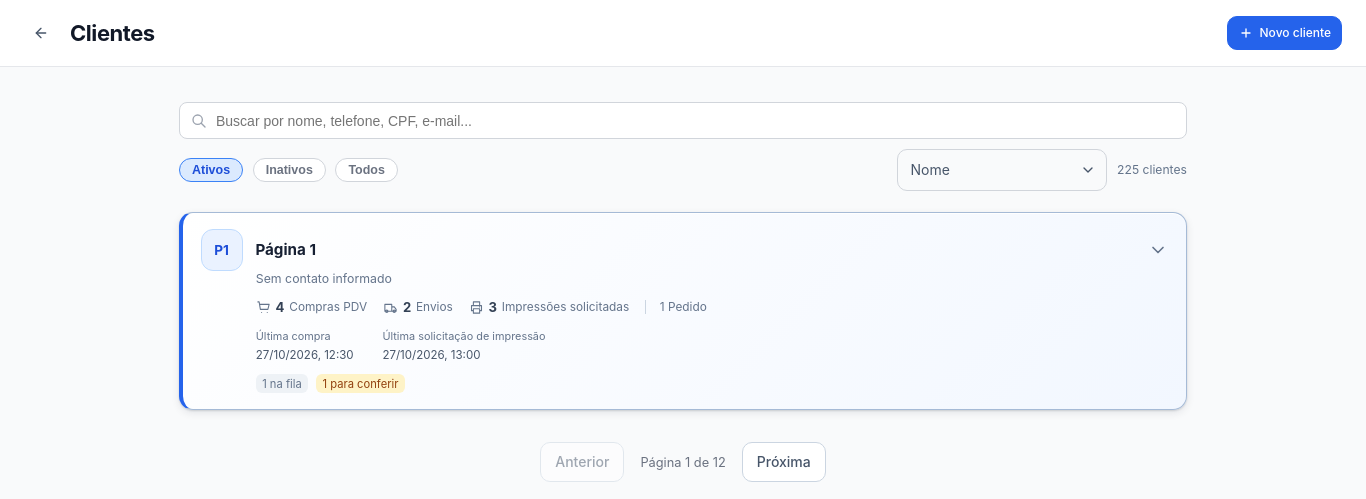
Test case: Customer status filters › shows the server total and replaces pages without truncating the directory
Expected: the text with class "total-count" reads "225 clientes", [1117,162,1187,178]
Expected: the navigation bar with class "customer-pagination" shows "Página 1 de 12", [640,455,726,470]
Step 1. Click the button "Próxima" → (784, 462), box [742,442,826,482]
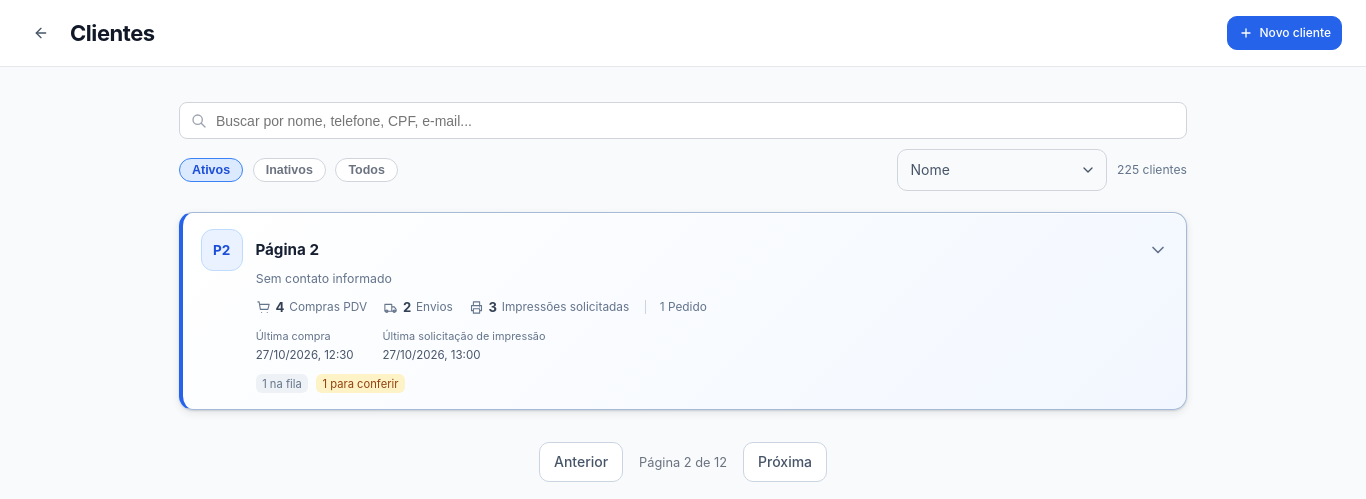
Expected: the number of elements with class "cliente-wrap" is 1, [179,212,1187,410]
Expected: the text with class "cliente-name" reads "Página 2", [255,240,319,259]
Expected: the button "Anterior" is enabled, [539,442,623,482]
